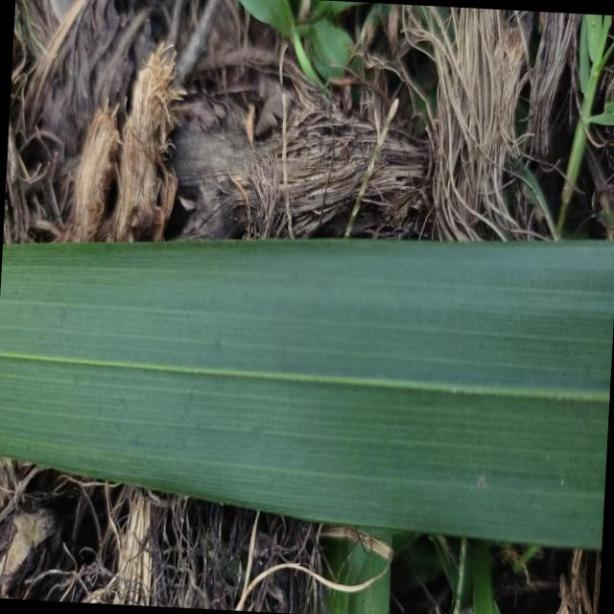Healthy: (0, 239, 614, 552)
